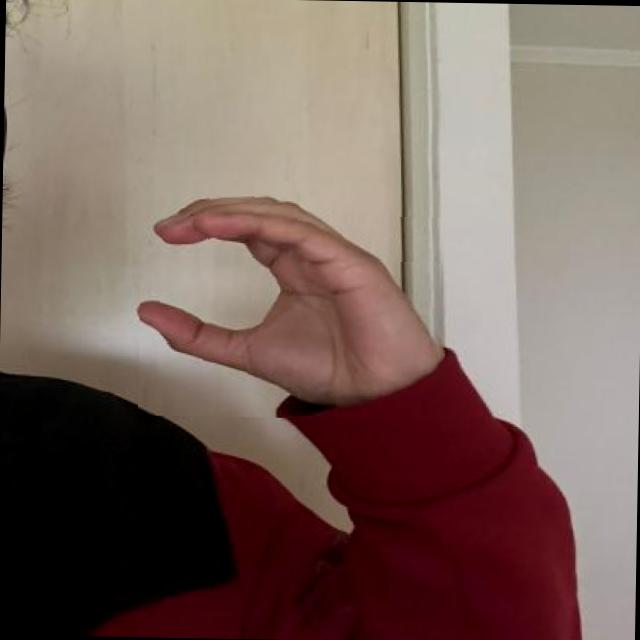C: (138, 183, 444, 420)
